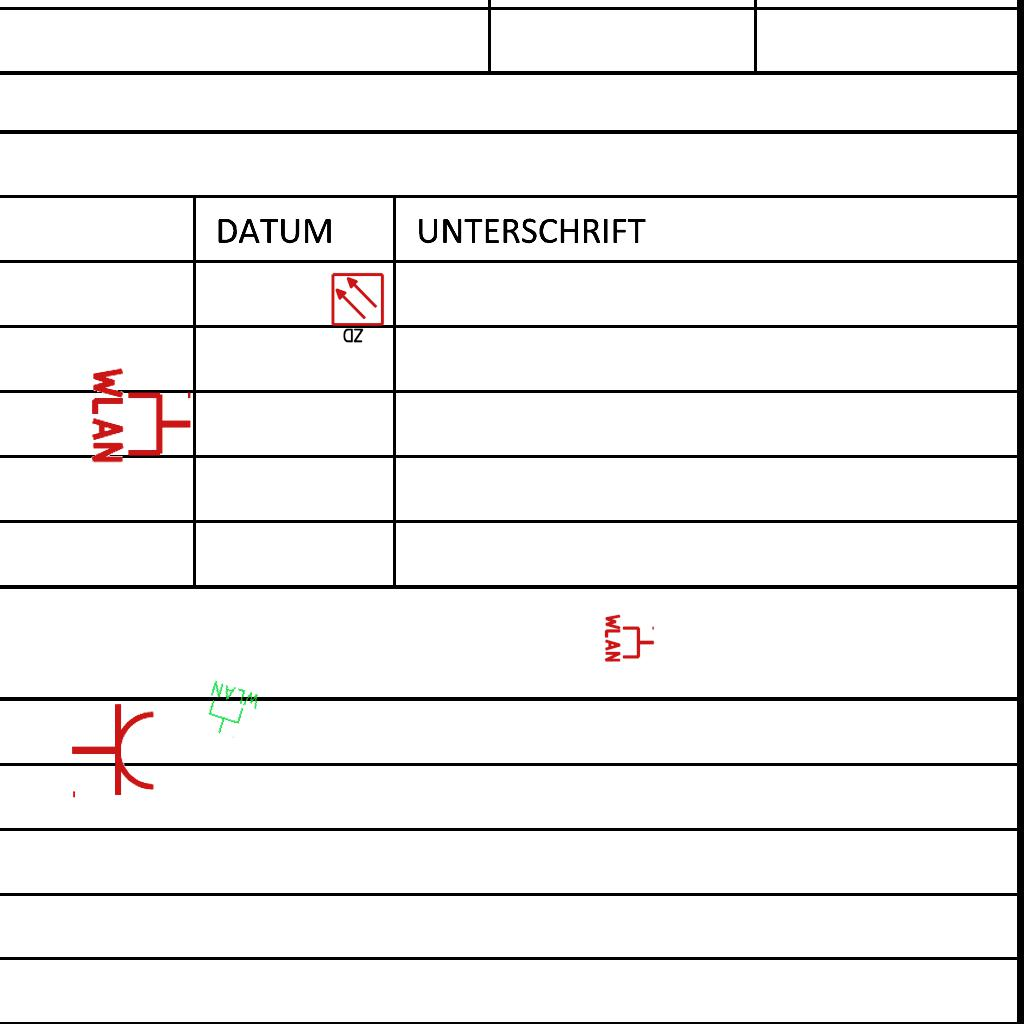Schukosteckdose_einfach: (70, 702, 157, 802)
WLAN: (90, 363, 195, 467), (198, 678, 264, 744), (604, 612, 656, 664)
ZD_Melder_in_Zwischendecke_mit_Revisionsoeffnung_mind_40_x_40_cm: (330, 272, 387, 346)
